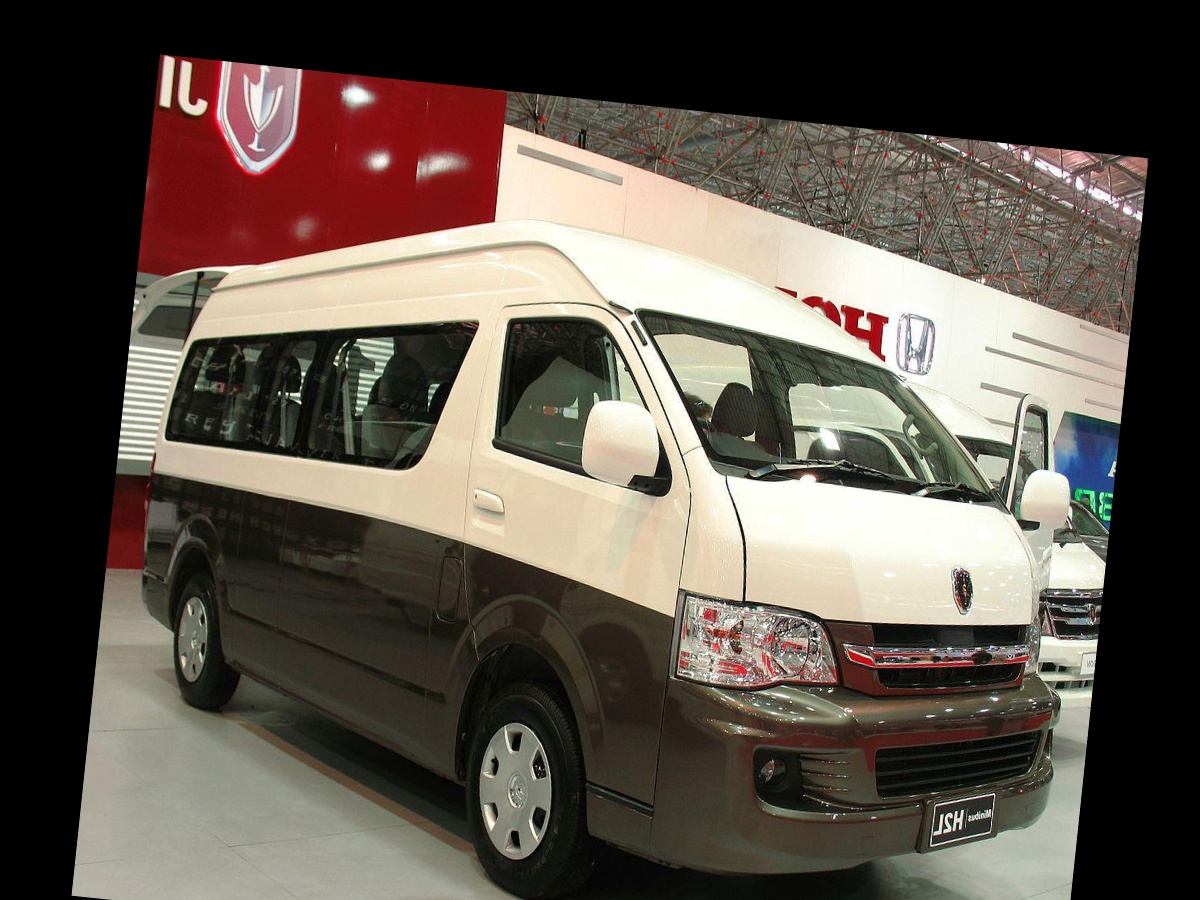van: (99, 190, 1097, 900)
